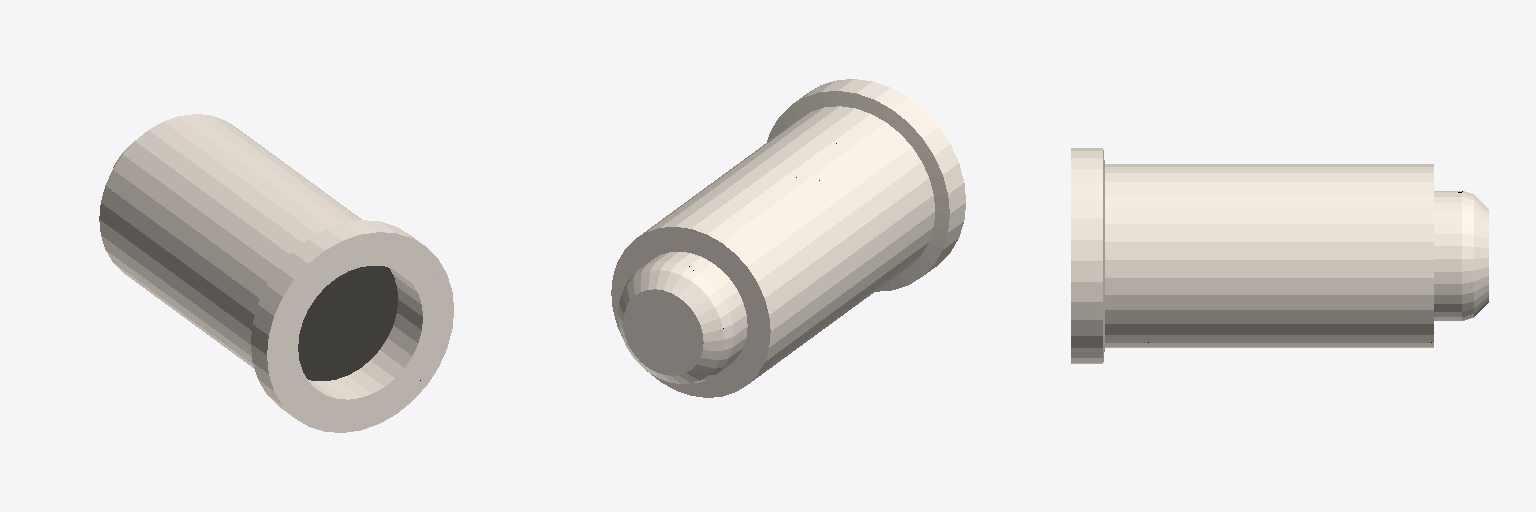
3 renders of one model, left to right at view 1: azimuth 30°, elevation 25°; view 2: azimuth 150°, elevation 25°; view 3: azimuth 270°, elevation 25°, orthographic.
Parts seen in each view (by area): view 1: Turret; view 2: Turret; view 3: Turret.
Boxes of the visible parts, x1=… form: Turret: x1=99, y1=114, x2=453, y2=432; Turret: x1=611, y1=79, x2=965, y2=397; Turret: x1=1071, y1=148, x2=1488, y2=363.
Size of the model in its own units: 1.31 by 1.31 by 2.54.
1 materials, 1 textured.